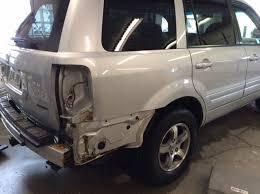Taillight-Damage: (49, 56, 103, 130)
rear-bumper-dent: (0, 137, 90, 163)
